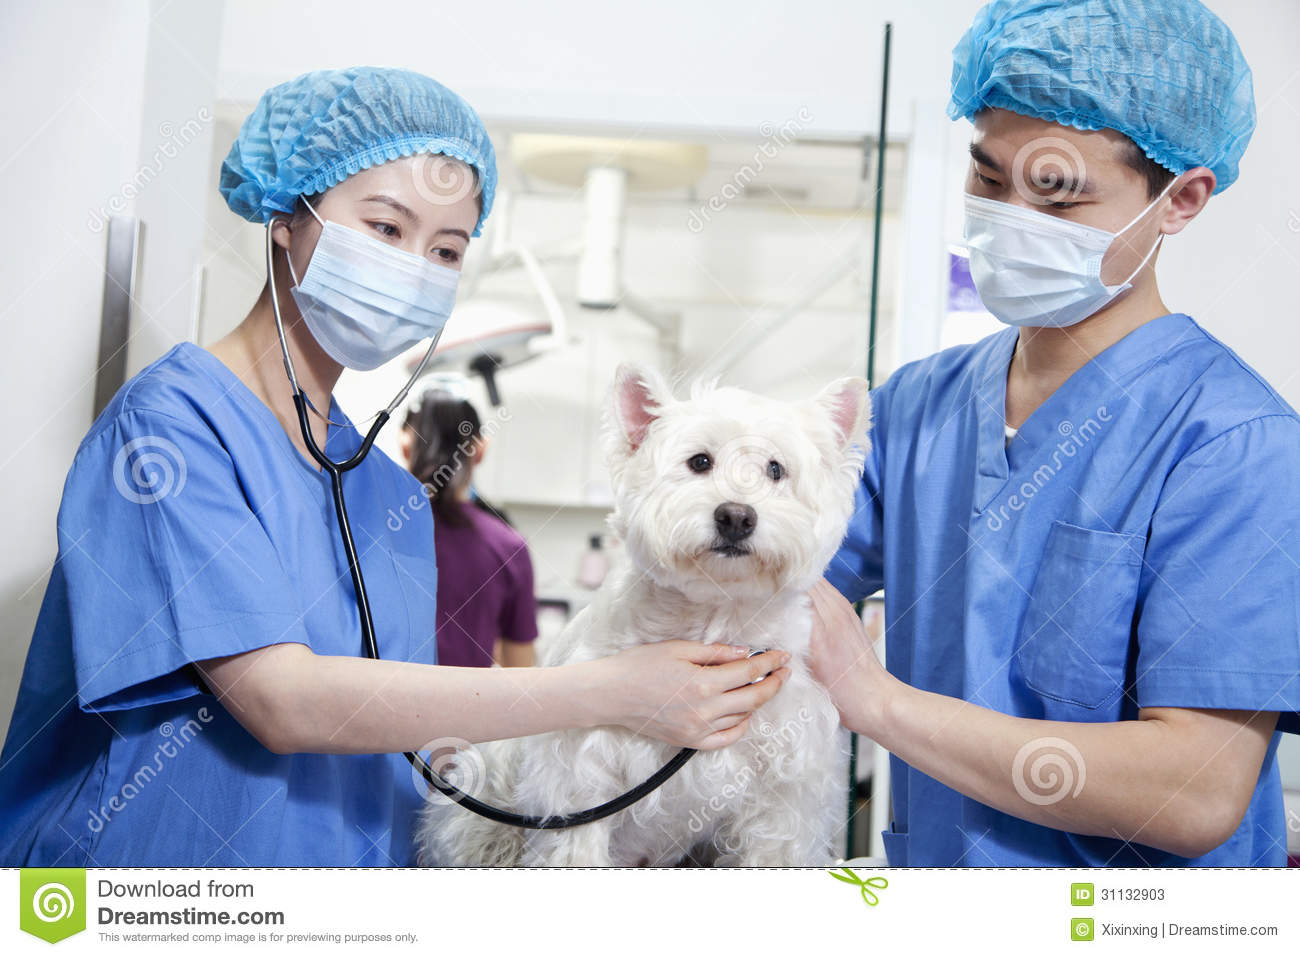mask: (307, 223, 458, 373), (964, 195, 1119, 339)
